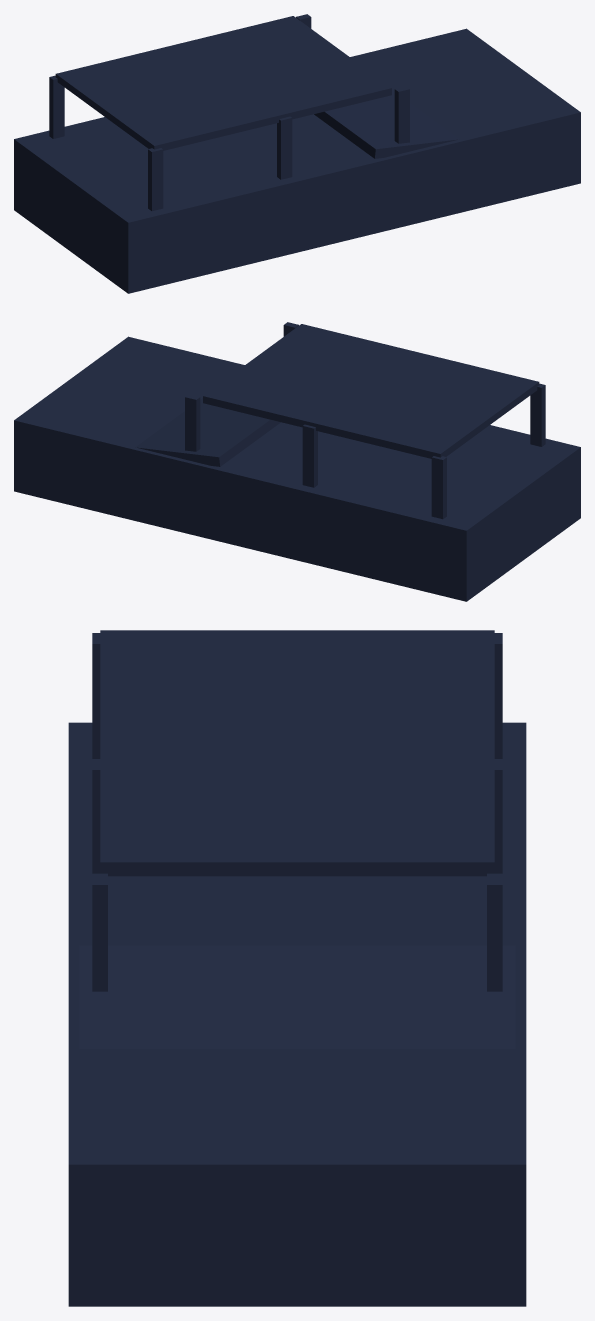
The model's file is SM_Car_1_Paint.glb.
The picture shows the model from 3 angles, top to bottom: view 1: azimuth 30°, elevation 25°; view 2: azimuth 150°, elevation 25°; view 3: azimuth 270°, elevation 25°; orthographic projection. The views are drawn at different scales.
Parts seen in each view (by area): view 1: SM_Car_1_Paint; view 2: SM_Car_1_Paint; view 3: SM_Car_1_Paint.
Boxes of the visible parts, x1=… form: SM_Car_1_Paint: x1=14, y1=14, x2=580, y2=293; SM_Car_1_Paint: x1=14, y1=322, x2=580, y2=601; SM_Car_1_Paint: x1=68, y1=630, x2=526, y2=1306.
Size of the model in its own units: 4 by 1.13 by 1.75.
